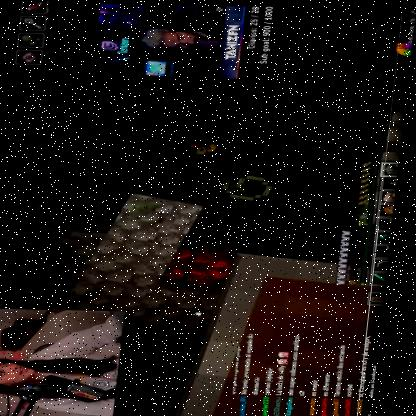streamer: (0, 310, 130, 416)
